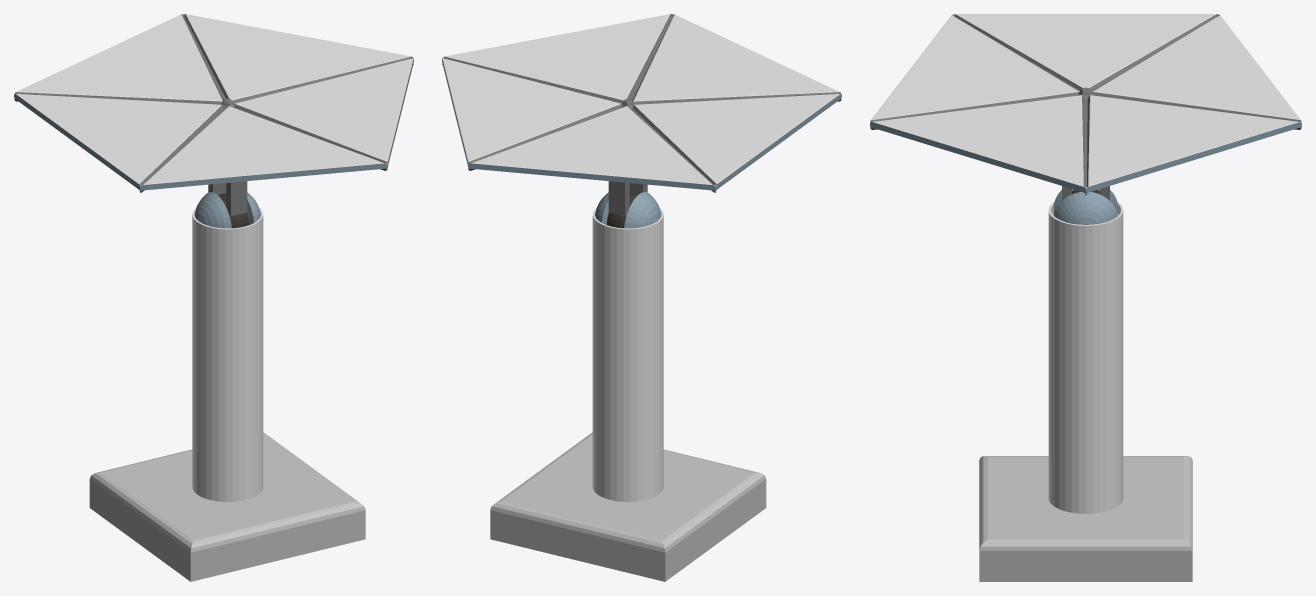
Rendered from Solarturm_Heliostat.fbx.
3 views of the same model, side by side, from view 1: azimuth 30°, elevation 25°; view 2: azimuth 150°, elevation 25°; view 3: azimuth 270°, elevation 25° (orthographic). The views are drawn at different scales.
Visible parts, largest first — view 1: Mirror, Cube, Standfuss, Kugelscharnier, KugelscharnierHalterung; view 2: Mirror, Cube, Standfuss, Kugelscharnier, KugelscharnierHalterung; view 3: Mirror, Cube, Standfuss, Kugelscharnier.
Boxes of the visible parts, x1,y1,x2,y2 form: Mirror: [14, 14, 413, 192]; Cube: [89, 432, 365, 581]; Standfuss: [192, 207, 263, 501]; Kugelscharnier: [194, 192, 260, 228]; KugelscharnierHalterung: [208, 181, 247, 216]; Mirror: [442, 14, 841, 192]; Cube: [490, 432, 766, 581]; Standfuss: [592, 207, 663, 501]; Kugelscharnier: [595, 192, 661, 228]; KugelscharnierHalterung: [608, 181, 647, 216]; Mirror: [870, 14, 1301, 195]; Cube: [979, 456, 1192, 581]; Standfuss: [1048, 201, 1123, 513]; Kugelscharnier: [1053, 189, 1118, 224].
Size of the model in its own units: 162 by 195 by 170.
